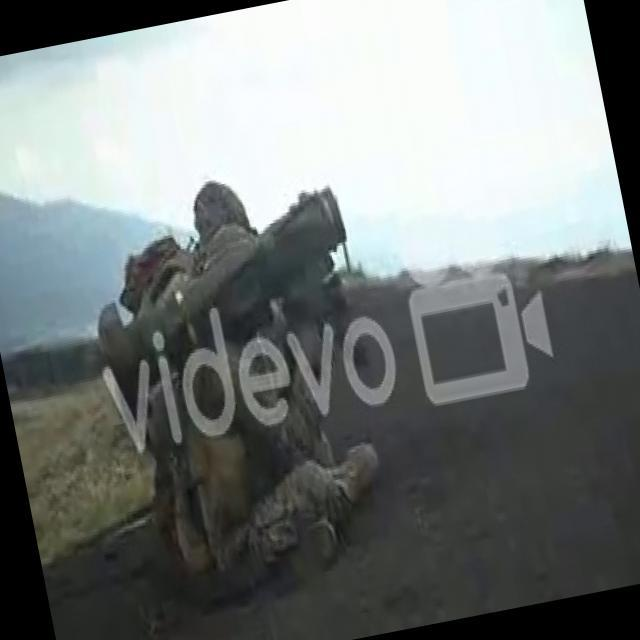rocket: (78, 185, 370, 408)
